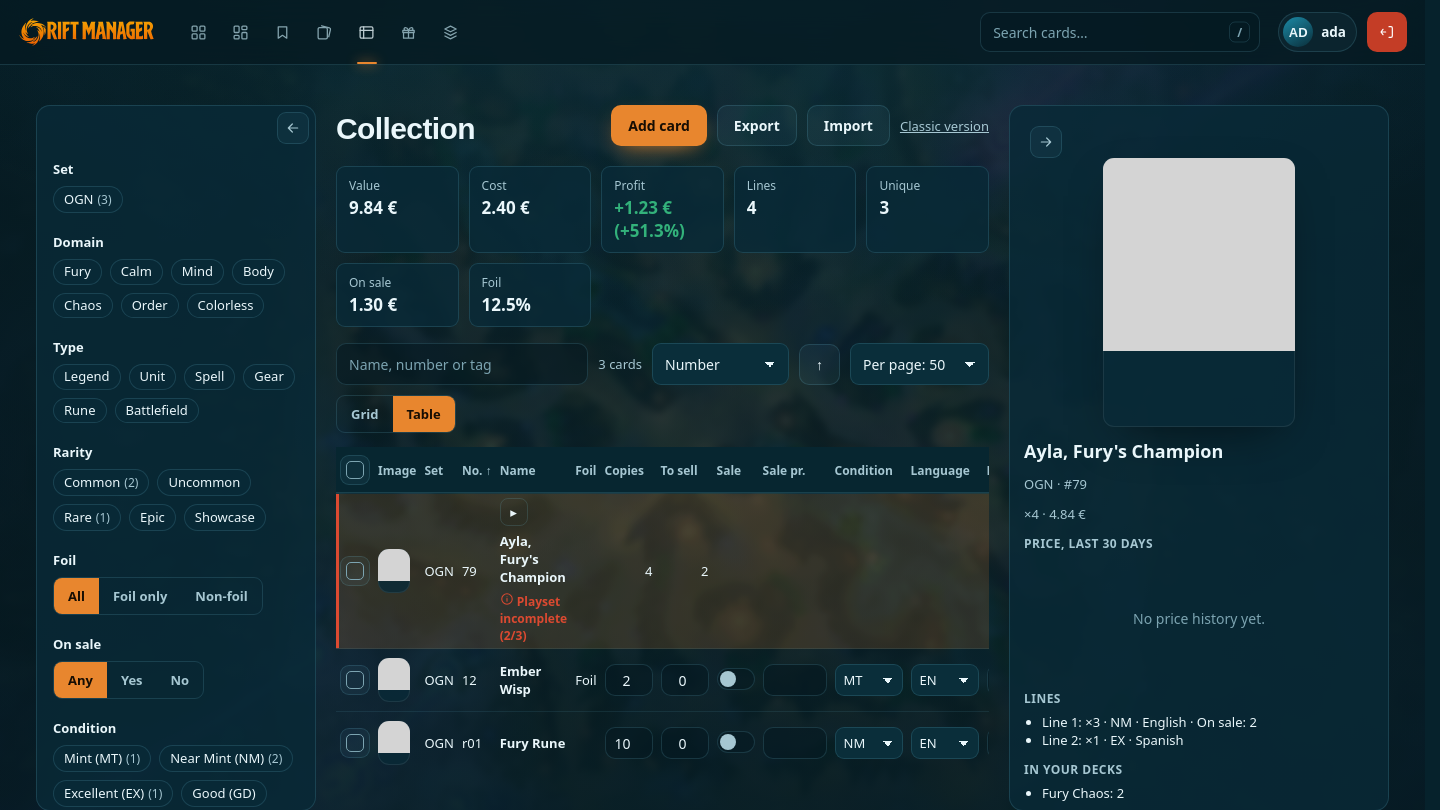
Test: wide panel at 1700 px (F3-h S6) › follows the row that is clicked
expect the heading "Ayla, Fury's Champion" is shown: met, box [1024, 439, 1223, 463]
Click the row "OGN 12 Ember Wisp Foil 2.50 € — — — 25 Oct 2026".
click(818, 680)  # box [336, 648, 1300, 712]
(page scrolled)
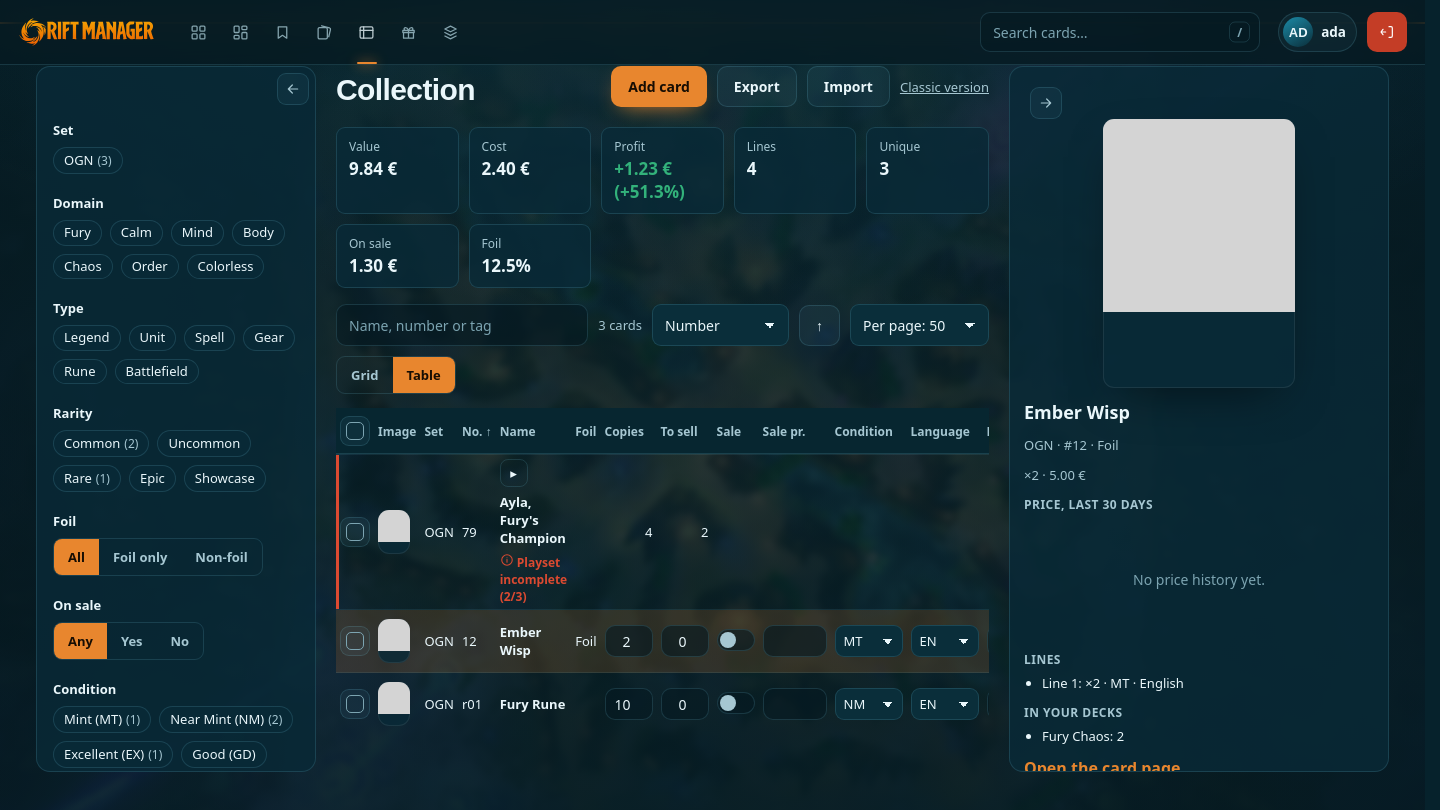
expect the heading "Ember Wisp" is shown: met, box [1024, 400, 1130, 424]
expect the text "OGN · #12 · Foil" is shown: met, box [1024, 436, 1119, 454]
